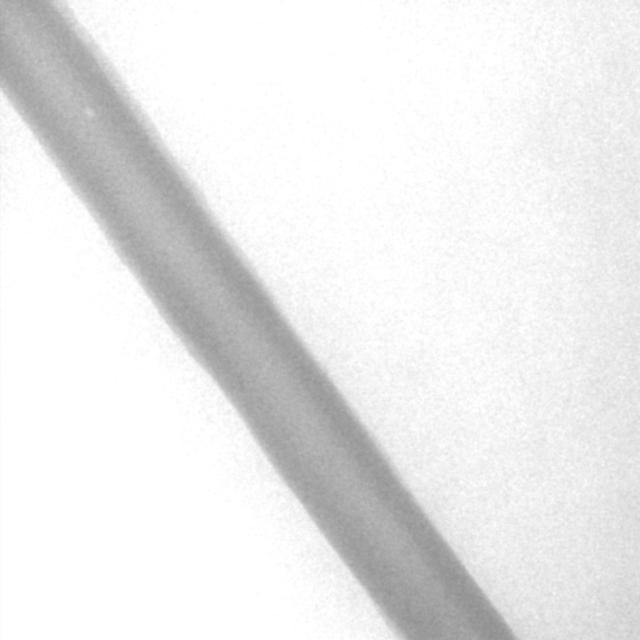air hole: (81, 104, 97, 120)
